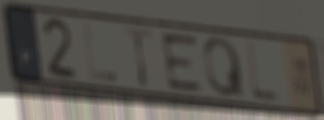2: (40, 15, 80, 82)
E: (158, 31, 207, 94)
L: (243, 35, 288, 110), (80, 21, 120, 84)
Q: (201, 35, 248, 100)
T: (121, 24, 156, 90)
